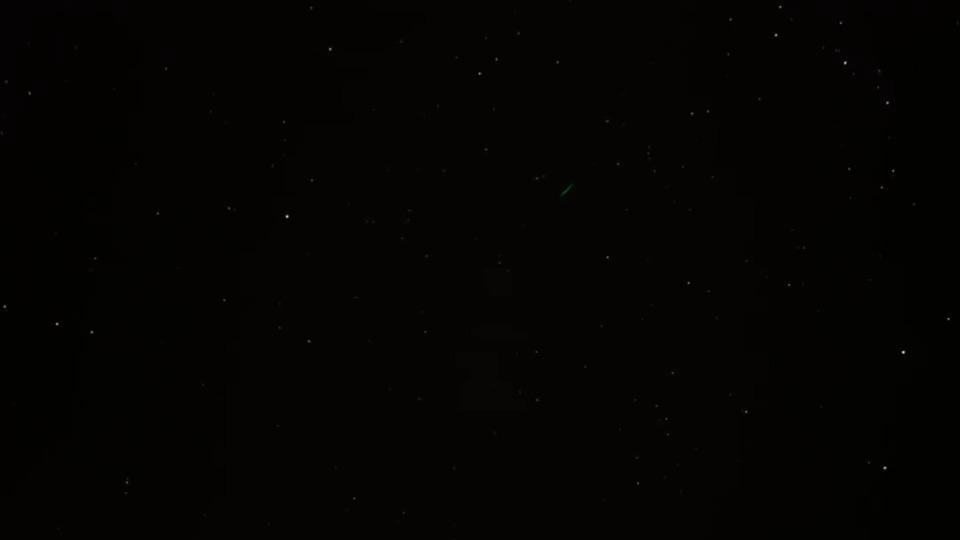meteorite: (535, 177, 602, 202)
